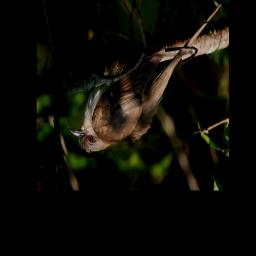Cuckoo: (68, 2, 222, 155)
